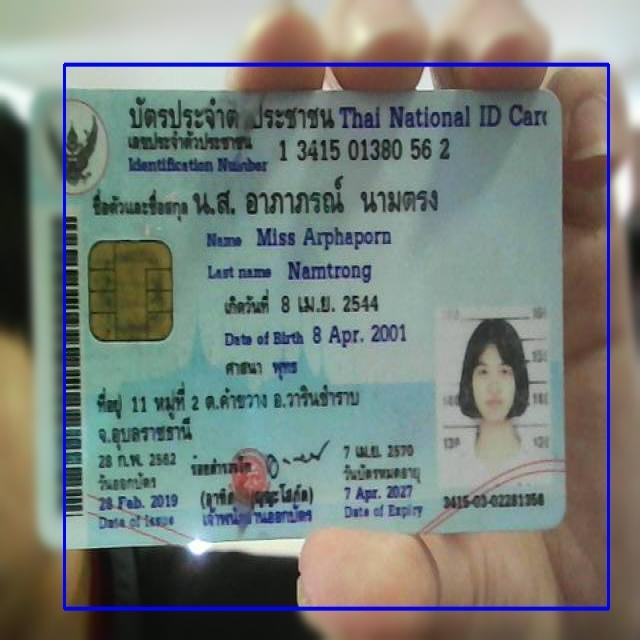Address_th: (91, 378, 367, 452)
Date_of_Birth: (307, 319, 411, 353)
Date_of_Expiry: (341, 482, 415, 504)
Date_of_Issue: (97, 491, 181, 516)
First_Name: (254, 220, 395, 253)
ID_Number: (274, 131, 458, 169)
Image: (435, 304, 551, 488)
Last_Name: (284, 257, 375, 287)
Thai_Name: (190, 172, 450, 224)
